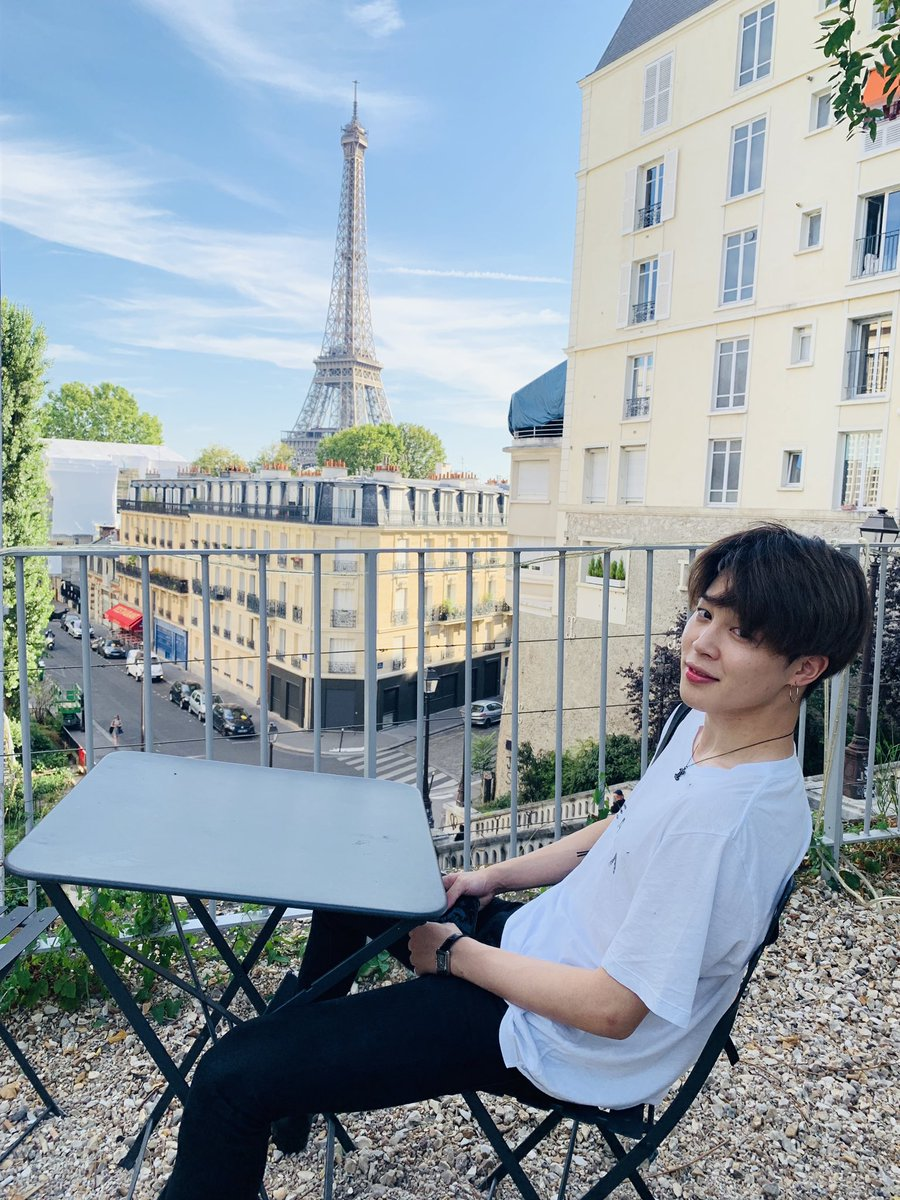people: (499, 533, 868, 1133)
